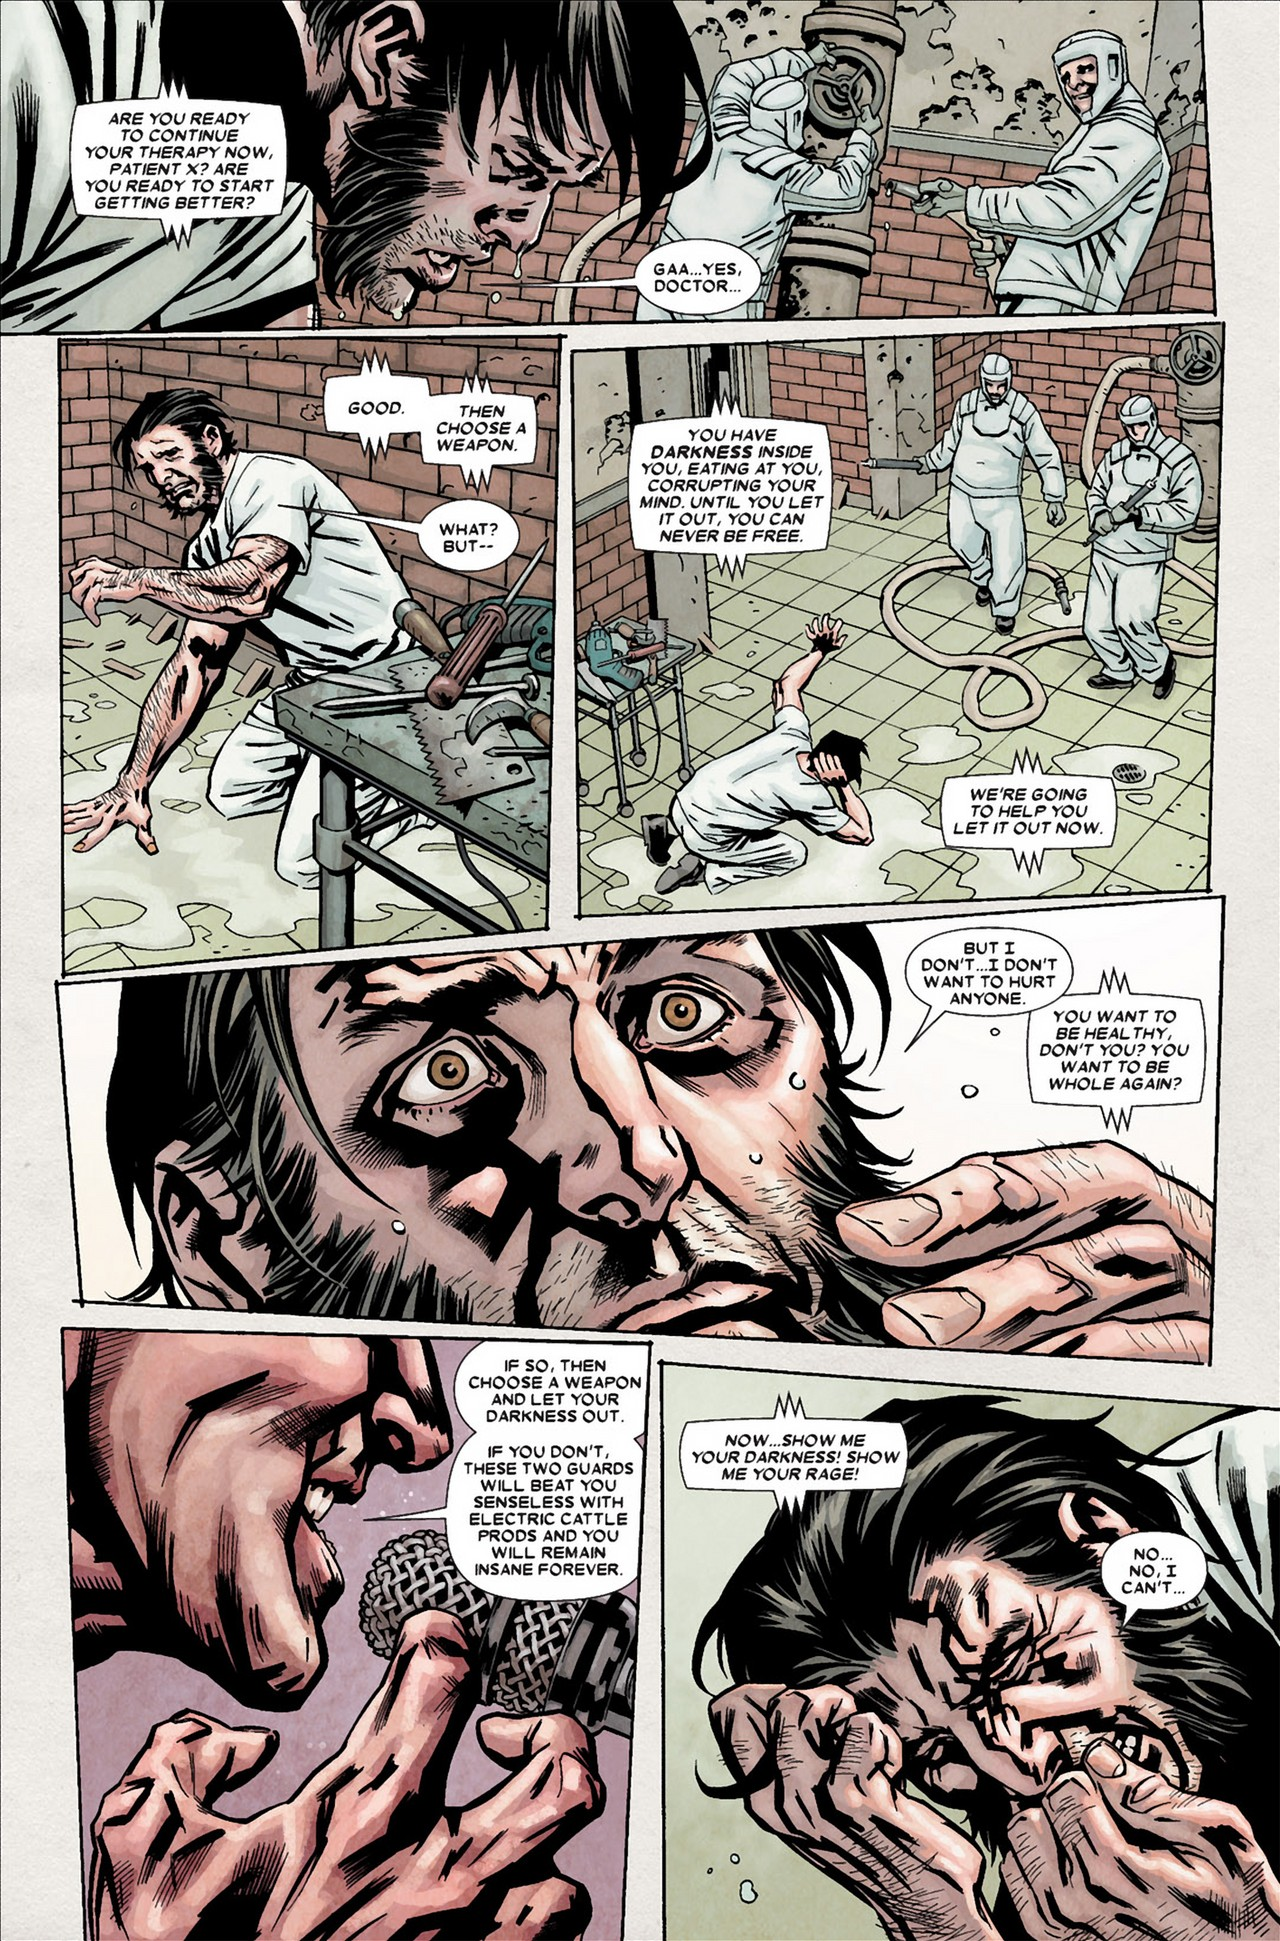Baloon: (430, 1331, 647, 1620), (71, 81, 291, 256), (633, 390, 819, 570), (1027, 973, 1203, 1123), (683, 1408, 909, 1523), (934, 748, 1121, 867), (374, 478, 524, 578), (906, 931, 1077, 1017), (427, 370, 533, 478), (319, 356, 430, 451), (641, 240, 769, 321), (1094, 1528, 1200, 1620)
Vignetta: (56, 896, 1221, 1350), (3, 1, 1217, 337), (583, 321, 1224, 914), (66, 1328, 650, 1941), (661, 1361, 1280, 1937), (61, 337, 550, 964)
